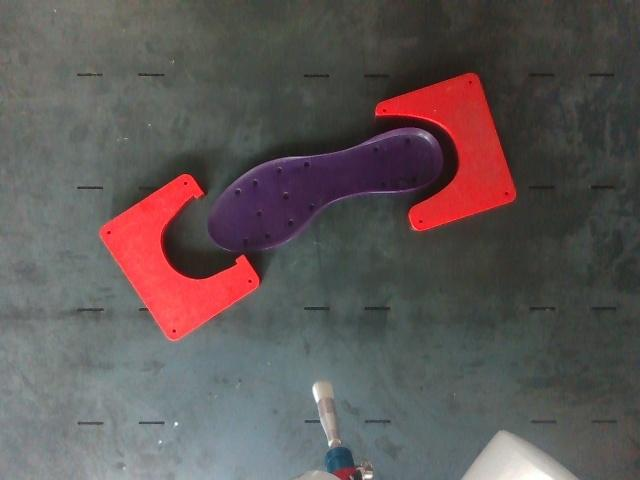shoes: (209, 129, 441, 250)
